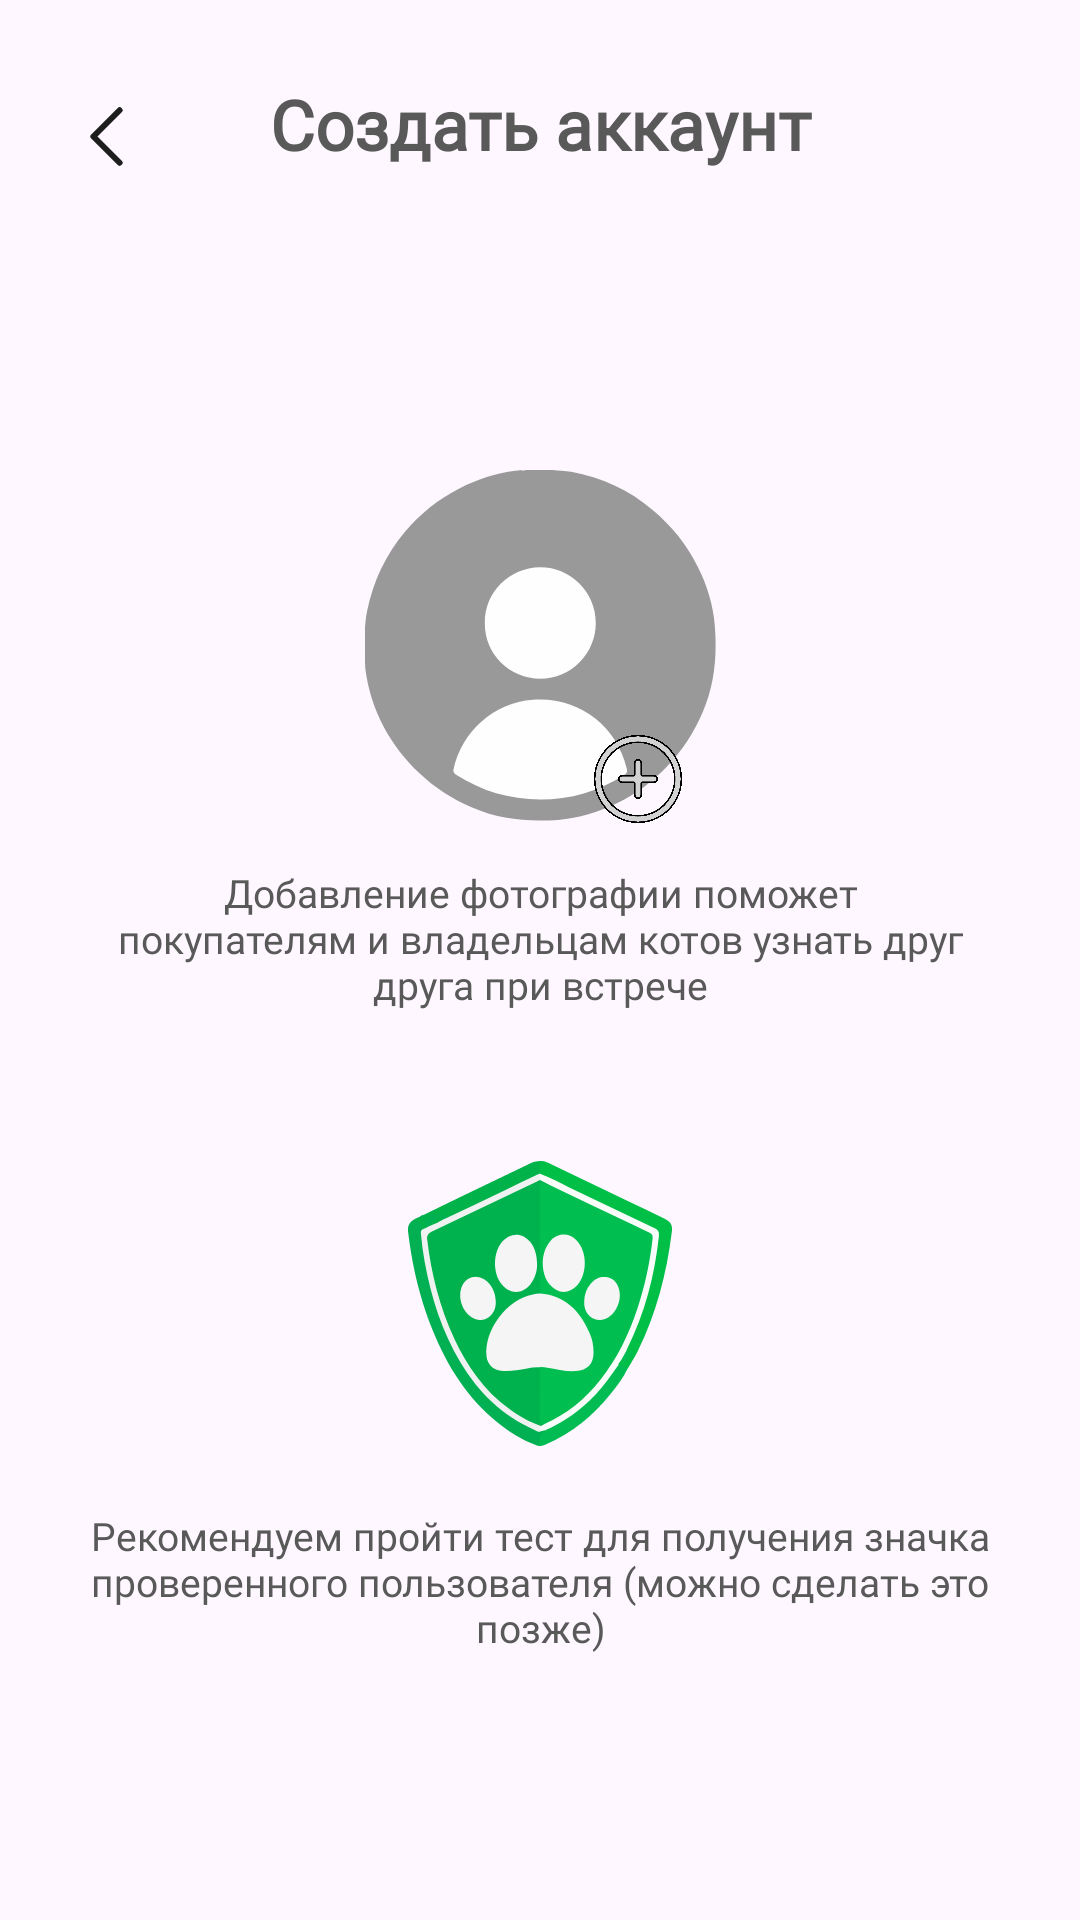

Screen size 1080w x 1920h. Icon name, then its box in pixels as (left=x1, top=y1, right=x2, bottom=y2):
back: (left=90, top=107, right=123, bottom=166)
verified: (left=408, top=1161, right=672, bottom=1446)
